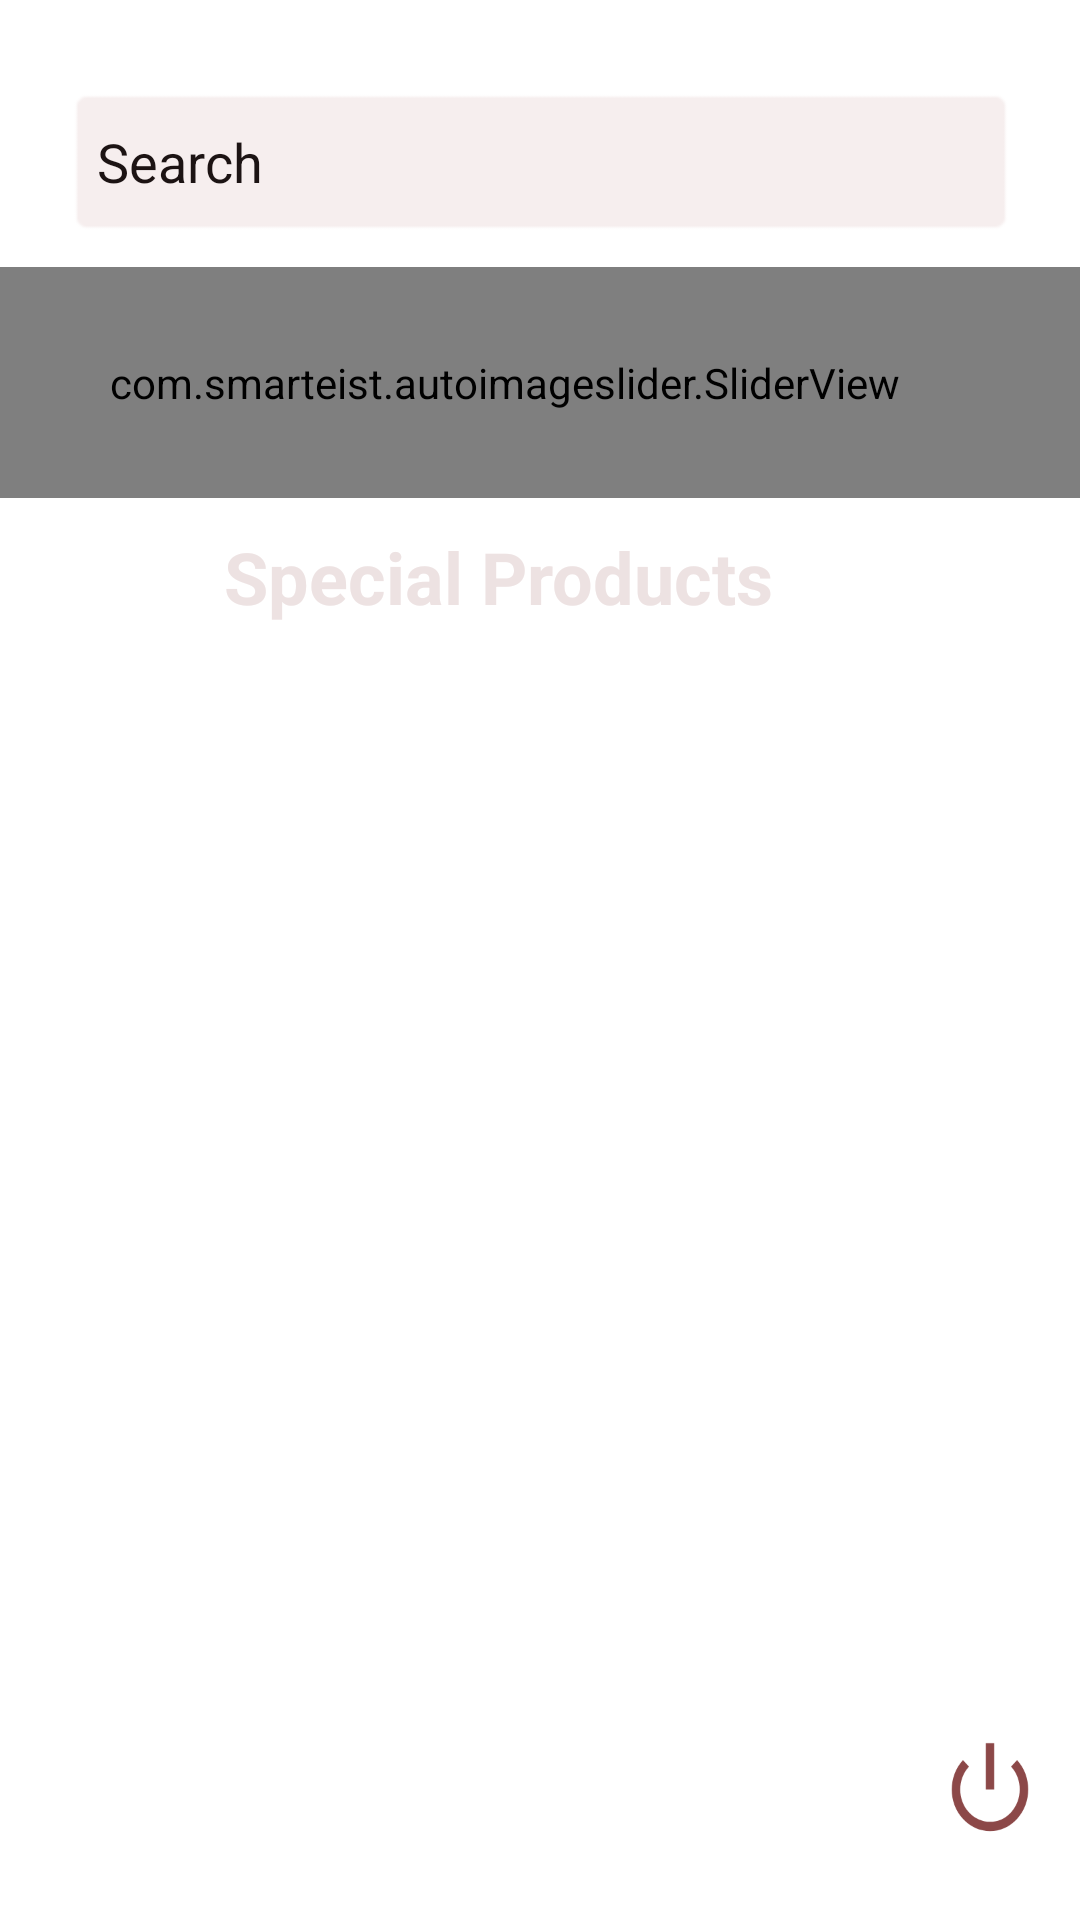

Point at icon controls on the screen. Image size 1080*1920, points as (x=x, y=y).
lock power off: (x=990, y=1787)
